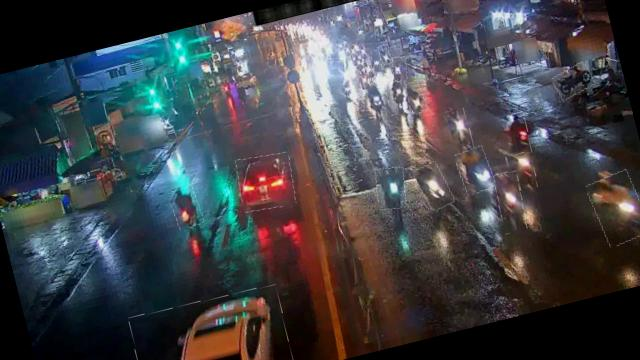Bike: (587, 169, 640, 248), (492, 170, 530, 235), (454, 146, 496, 195), (414, 161, 454, 212), (372, 164, 411, 212), (496, 112, 532, 159), (552, 62, 596, 100), (168, 185, 204, 230), (506, 152, 539, 194), (444, 108, 474, 154), (382, 72, 412, 116), (363, 81, 388, 119), (402, 80, 428, 114), (389, 56, 410, 84), (338, 74, 354, 100), (377, 43, 392, 66), (370, 49, 384, 72), (364, 60, 376, 79)
Car: (127, 282, 296, 360), (233, 149, 299, 215)
